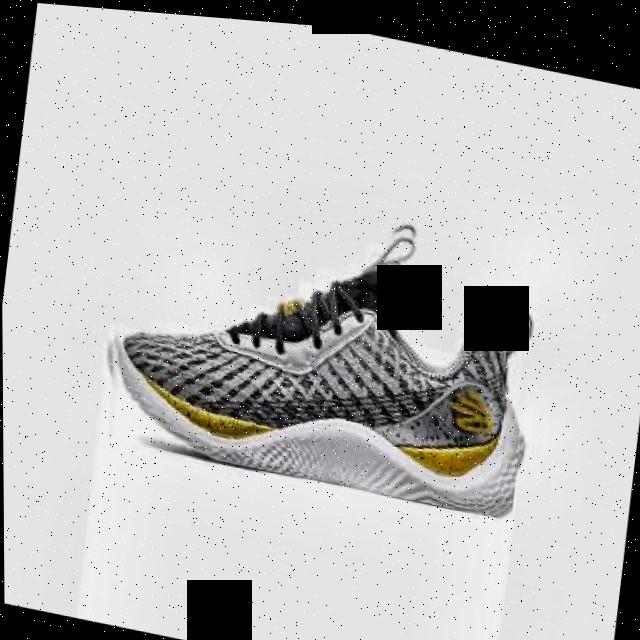shoe: (91, 160, 544, 514)
